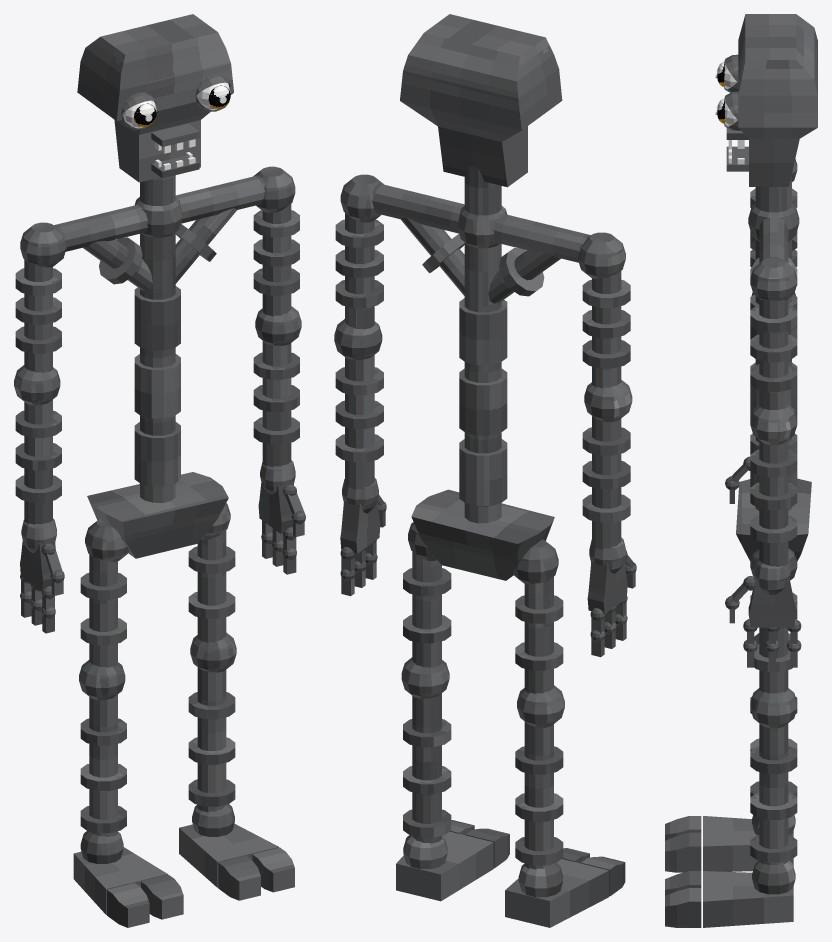
The model's file is ENDO.gltf.
3 renders of one model, left to right at view 1: azimuth 30°, elevation 25°; view 2: azimuth 150°, elevation 25°; view 3: azimuth 270°, elevation 25°, orthographic. The views are drawn at different scales.
Parts seen in each view (by area): view 1: Spine (×5), cylinder (×4), cuboid (×6), head, sphere (×11), pelvis, Neck_bone; view 2: Spine (×5), head, cylinder (×4), sphere (×11), cuboid (×4), pelvis, Neck_bone; view 3: cuboid (×4), cylinder (×4), head, Spine (×3), sphere (×6), pelvis, Neck_bone.
Part boxes in pixels (x1,y1,x2,y2): Spine (×5): (15, 175, 299, 837); cylinder (×4): (15, 204, 299, 812); cuboid (×6): (20, 123, 294, 927); head: (77, 14, 233, 182); sphere (×11): (14, 166, 301, 863); pelvis: (87, 472, 228, 558); Neck_bone: (140, 175, 175, 205); Spine (×5): (335, 183, 630, 869); head: (400, 14, 562, 187); cylinder (×4): (335, 213, 630, 843); sphere (×11): (334, 174, 632, 897); cuboid (×4): (340, 500, 627, 927); pelvis: (411, 489, 554, 580); Neck_bone: (464, 166, 501, 215); cuboid (×4): (665, 146, 795, 927); cylinder (×4): (750, 188, 797, 865); head: (738, 14, 817, 186); Spine (×3): (748, 203, 799, 796); sphere (×6): (750, 257, 797, 894); pelvis: (736, 478, 811, 560); Neck_bone: (755, 174, 791, 212).
Bounding box in the file's own units: 0.91 × 2.58 × 0.4217.
Materials: 3 (2 with a texture image).
